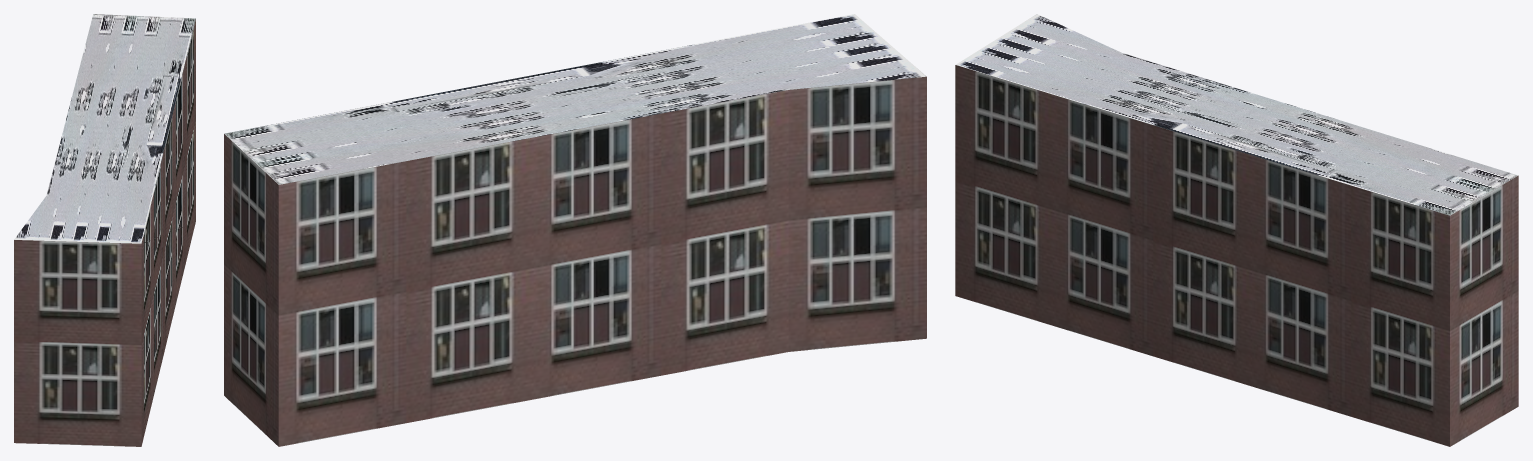
Rendered from ResTex__1095.fbx.
3 views of the same model, side by side, from view 1: azimuth 30°, elevation 25°; view 2: azimuth 150°, elevation 25°; view 3: azimuth 270°, elevation 25° (orthographic). The views are drawn at different scales.
Visible parts, largest first — view 1: CityEngineMaterial_12_m, CityEngineMaterial_m; view 2: CityEngineMaterial_12_m, CityEngineMaterial_m; view 3: CityEngineMaterial_12_m, CityEngineMaterial_m.
Boxes of the visible parts, left/top/right/bottom form: CityEngineMaterial_12_m: left=14, top=19, right=195, bottom=446; CityEngineMaterial_m: left=14, top=14, right=195, bottom=243; CityEngineMaterial_12_m: left=224, top=76, right=926, bottom=446; CityEngineMaterial_m: left=224, top=14, right=926, bottom=184; CityEngineMaterial_12_m: left=955, top=65, right=1518, bottom=446; CityEngineMaterial_m: left=955, top=14, right=1518, bottom=215.
Size of the model in its own units: 11.23 by 6 by 13.25.
2 materials, 2 textured.
